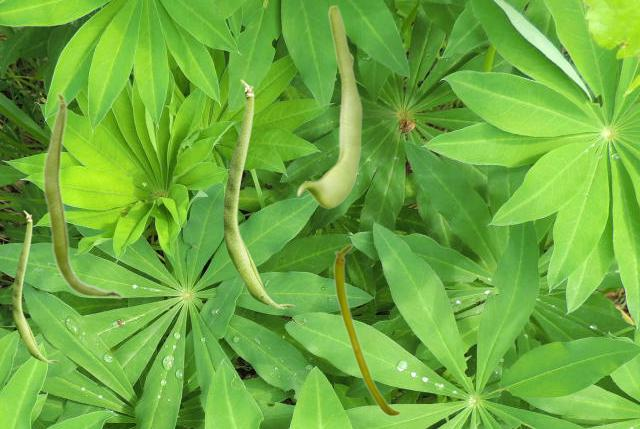french_bean: (41, 91, 123, 299), (223, 79, 294, 308), (296, 4, 361, 207), (333, 243, 400, 416), (12, 210, 58, 362)
